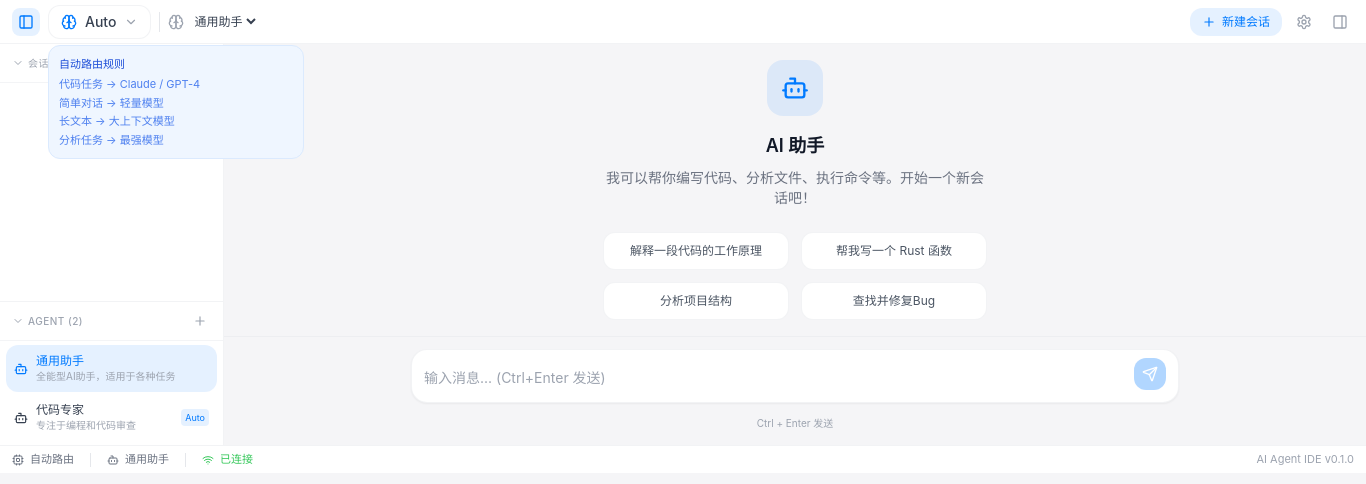
AgentIDE › toggles sidebar visibility
This screenshot has width=1366, height=484.
Expected: the button "会话 (0)" is shown, [12,56,68,70]
//  点击隐藏侧边栏
Click the button titled "切换侧边栏": (26, 22) [12,8,40,36]
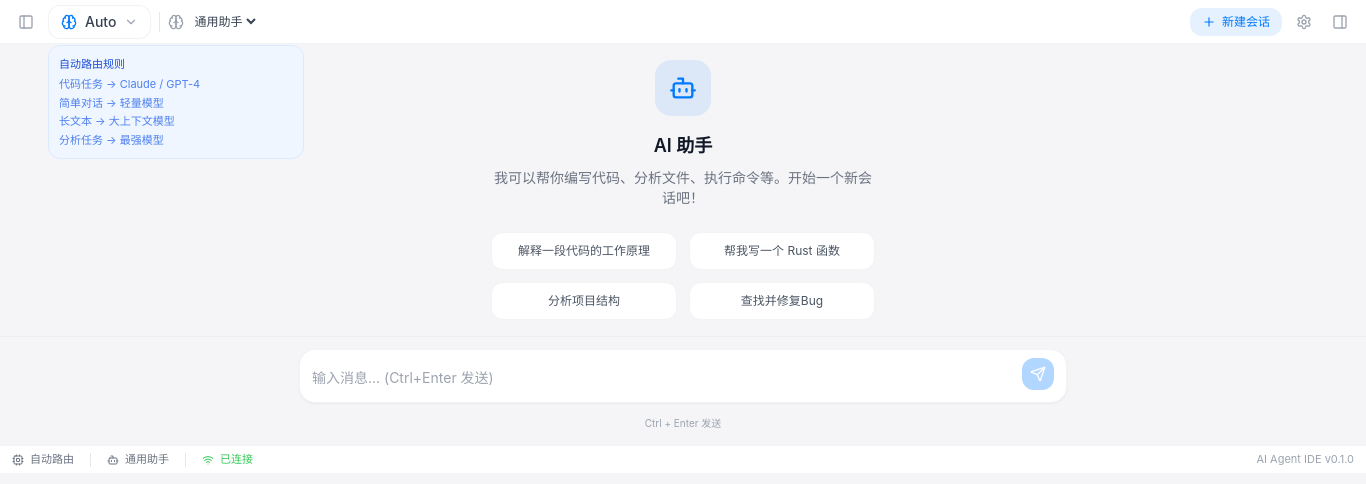
Result: the button "会话 (0)" is gone
